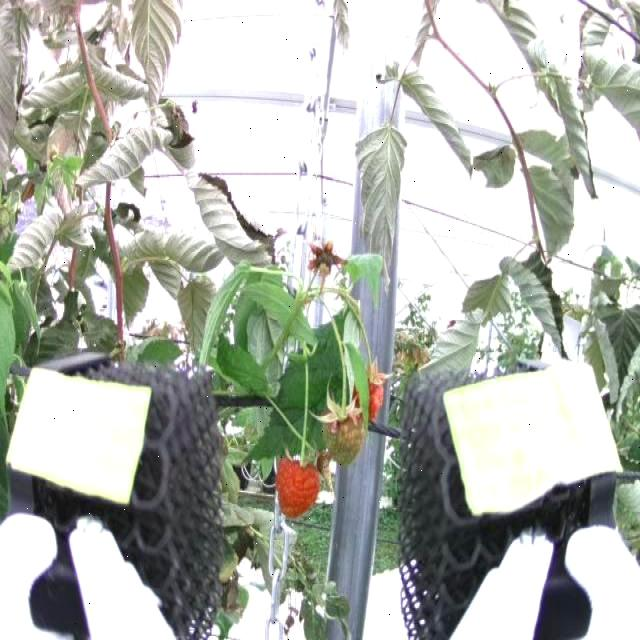Riped berries: (272, 449, 324, 517), (353, 357, 392, 421)
